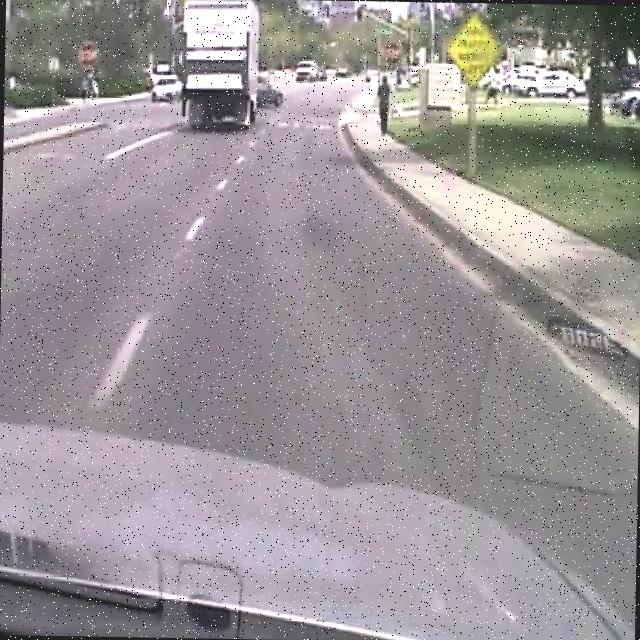Stop: (379, 40, 402, 65)
